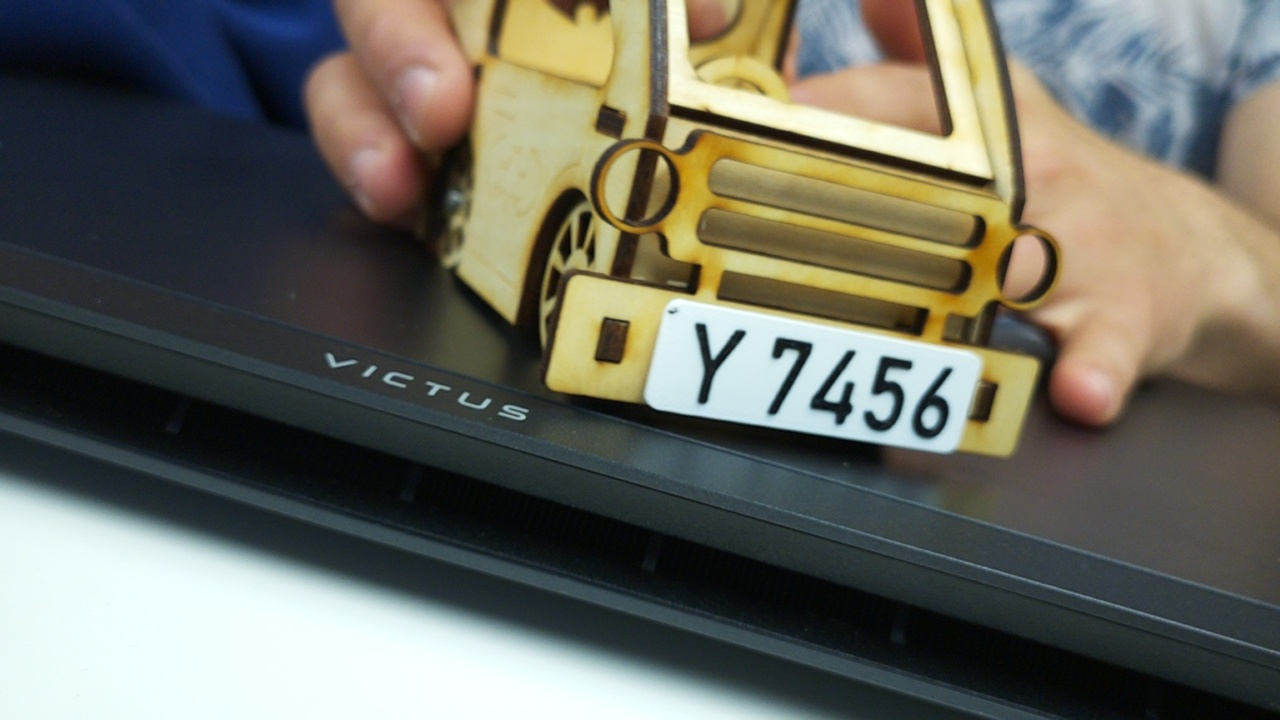license_plate: (641, 295, 986, 455)
